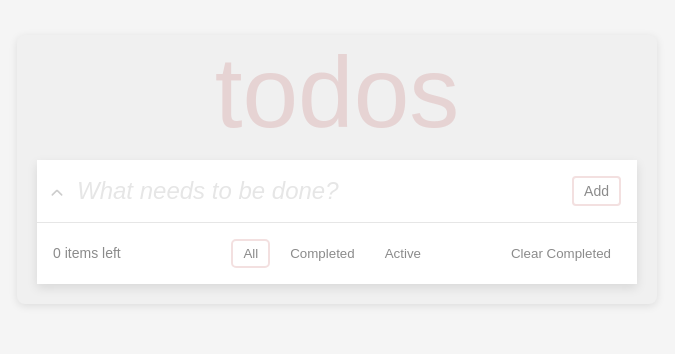
it: TodoApp Component › добавление новой задачи
The width and height of the screenshot is (675, 354).
Type "New Task" into the field with placeholder "What needs to be done?" at point(297, 191), box [37,160,556,222]
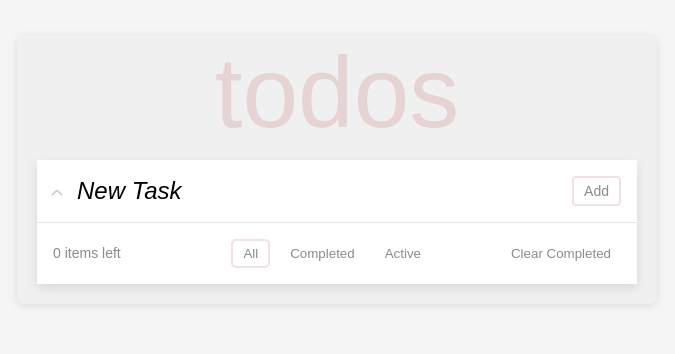
Click the button "Add" at point(597, 190), box [572,176,621,206]
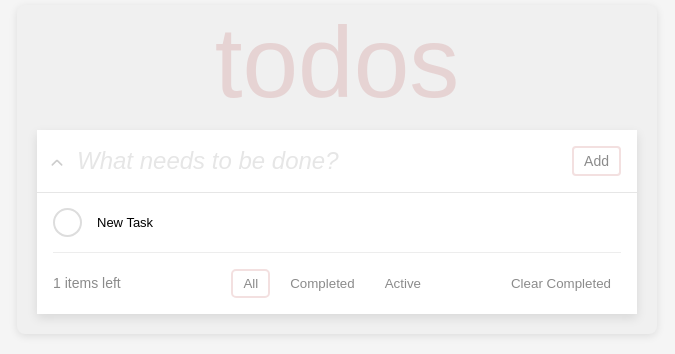
Expected: the text "New Task" is shown, [97,214,153,230]
Expected: the field with placeholder "What needs to be done?" is empty, [37,130,556,192]
